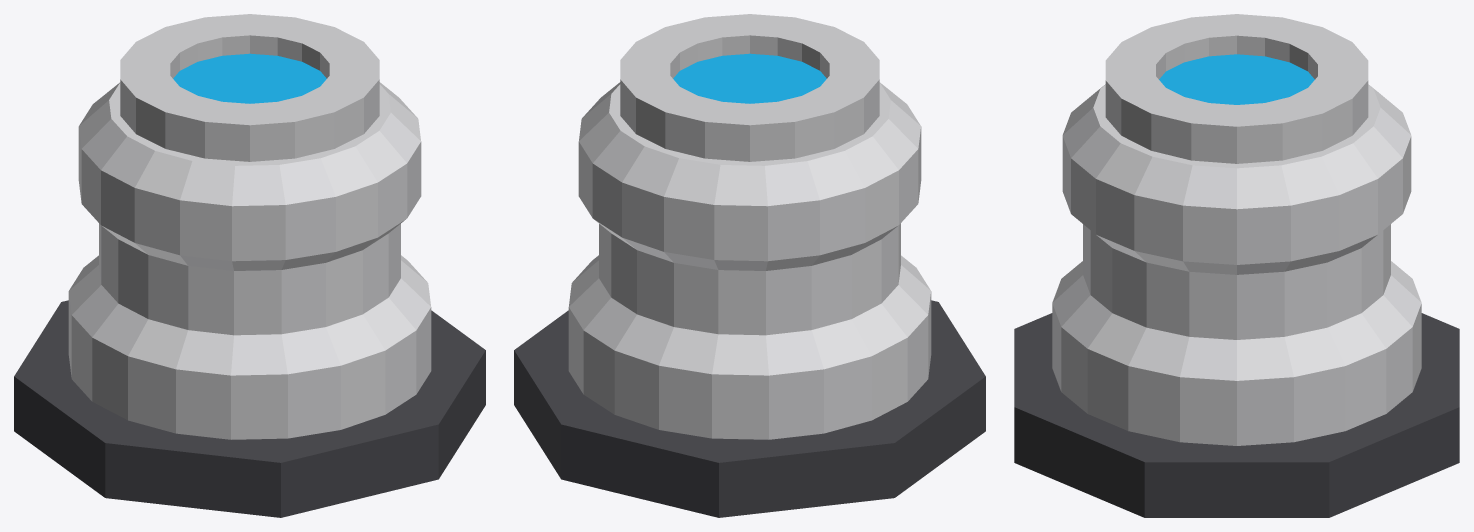
The model's file is vge_gravcore_power_cell.obj.
The picture shows the model from 3 angles, left to right: view 1: azimuth 30°, elevation 25°; view 2: azimuth 150°, elevation 25°; view 3: azimuth 270°, elevation 25°; orthographic projection.
Parts seen in each view (by area): view 1: vge_gravcore_power_cell_1, vge_gravcore_power_cell_0, vge_gravcore_power_cell_2, vge_gravcore_power_cell_3; view 2: vge_gravcore_power_cell_1, vge_gravcore_power_cell_0, vge_gravcore_power_cell_2, vge_gravcore_power_cell_3; view 3: vge_gravcore_power_cell_1, vge_gravcore_power_cell_0, vge_gravcore_power_cell_2, vge_gravcore_power_cell_3.
Boxes of the visible parts, x1,y1,x2,y2 form: vge_gravcore_power_cell_1: [68, 82, 431, 439]; vge_gravcore_power_cell_0: [14, 300, 485, 517]; vge_gravcore_power_cell_2: [120, 14, 379, 161]; vge_gravcore_power_cell_3: [173, 53, 326, 103]; vge_gravcore_power_cell_1: [568, 82, 931, 439]; vge_gravcore_power_cell_0: [514, 300, 985, 517]; vge_gravcore_power_cell_2: [620, 14, 879, 161]; vge_gravcore_power_cell_3: [673, 53, 826, 103]; vge_gravcore_power_cell_1: [1052, 84, 1421, 445]; vge_gravcore_power_cell_0: [1014, 313, 1459, 517]; vge_gravcore_power_cell_2: [1105, 14, 1368, 163]; vge_gravcore_power_cell_3: [1159, 54, 1314, 104].
Size of the model in its own units: 0.8684 by 0.76 by 0.8684.
